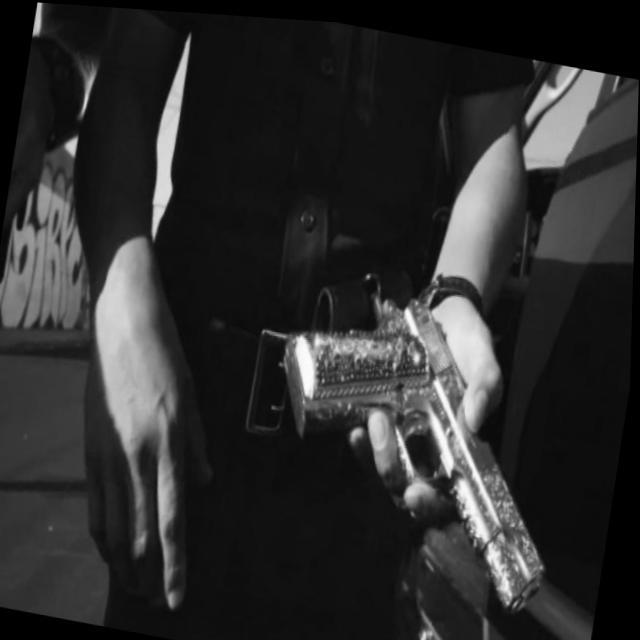weapon: (238, 248, 591, 623)
